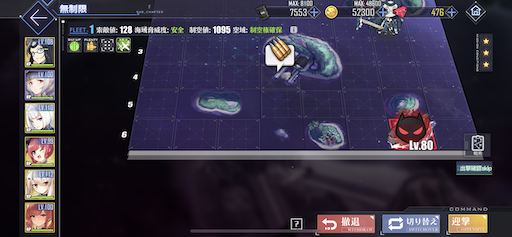boss: (388, 115, 434, 149)
